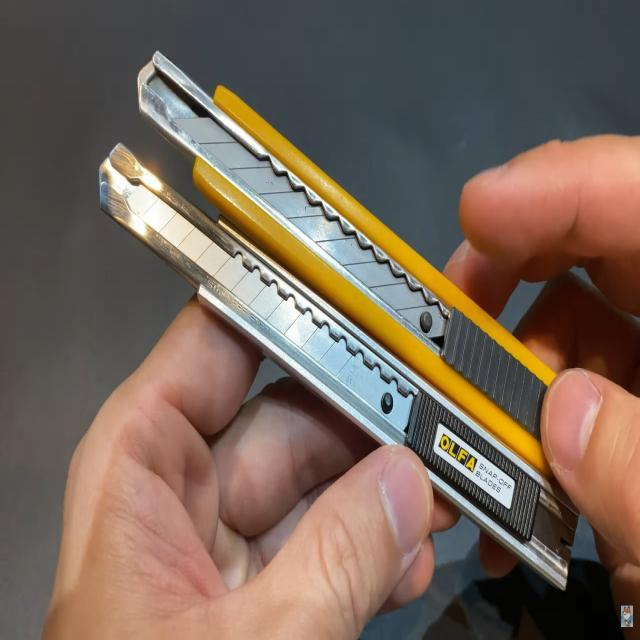cutter: (52, 2, 638, 620)
